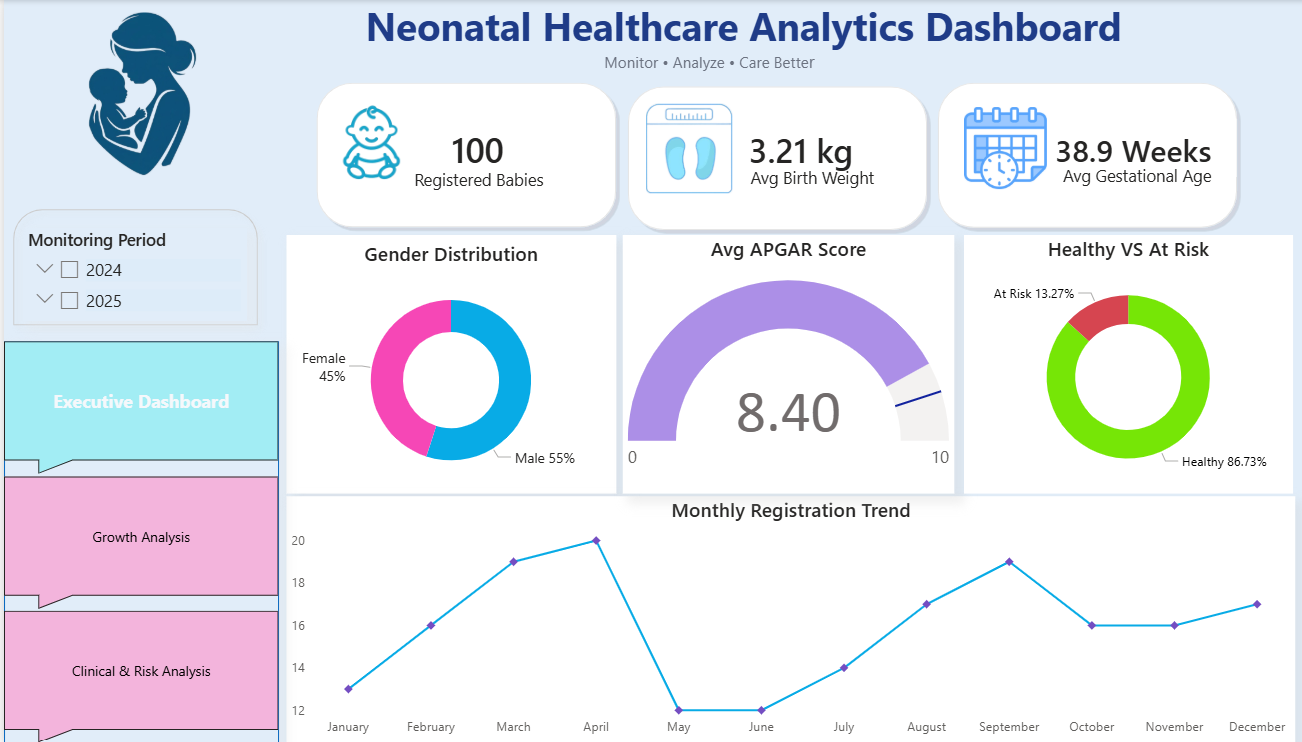

Layout of this report page (visuals, bound fields, positions):
{"tool":"powerbi","page":{"name":"Executive Dashboard","canvas":[1280,720],"ordinal":0},"visuals":[{"type":"shape","box":[0,193.3,253.9,129.8],"z":0},{"type":"textbox","box":[343.4,0,744.5,70.7],"z":1000},{"type":"textbox","box":[574.3,43.4,232.8,35],"z":2000},{"type":"shape","box":[296.8,74.8,299,149.6],"z":3000},{"type":"cardVisual","fields":{"Data":["Calculate_table.Total Babies"]},"box":[402.5,108.2,147.2,67.8],"z":4000},{"type":"textbox","box":[391,157.3,147.2,34.6],"z":5000},{"type":"image","box":[297.2,80.8,118.3,112.5],"z":6000},{"type":"shape","box":[597.3,77.9,298.7,148.6],"z":7000},{"type":"cardVisual","fields":{"Data":["Calculate_table.Avg_birth_wgt"]},"box":[690.1,94.1,171.3,98.9],"z":8000},{"type":"textbox","box":[715.4,155.6,135.1,37.4],"z":9000},{"type":"image","box":[616.1,99.6,89.5,86.6],"z":10000},{"type":"shape","box":[896,75,298.7,150],"z":11000},{"type":"cardVisual","fields":{"Data":["Calculate_table.Average Gestational Age"]},"box":[985.4,109.6,209.2,66.4],"z":12000},{"type":"textbox","box":[1017.1,152.9,167.4,31.7],"z":13000},{"type":"image","box":[926.5,100.1,79.6,85.7],"z":14000},{"type":"donutChart","title":"Gender Distribution","fields":{"Category":["Dim_Baby_Profile_tbl.gender"],"Y":["Calculate_table.Registered Babies"]},"box":[272.7,226.5,318,249.6],"z":15000},{"type":"lineChart","title":"Monthly Registration Trend","fields":{"Category":["Dim_Calender_tbl.date.Variation.Date Hierarchy.Month"],"Y":["Calculate_table.Registered Babies"]},"box":[272.7,479,973.9,240.9],"z":16000},{"type":"gauge","title":"Avg APGAR Score ","fields":{"Y":["Calculate_table.Avg_Apgar_score"],"MinValue":["Calculate_table.Min_apgar"],"MaxValue":["Calculate_table.Max_apgar"],"TargetValue":["Calculate_table.Target_apgar"]},"box":[597.3,226.5,320,249.6],"z":17000},{"type":"shape","box":[0,328.9,265.5,391],"z":18000},{"type":"pageNavigator","box":[0,328.9,265.5,391],"z":19000},{"type":"donutChart","title":"Healthy VS At Risk","fields":{"Category":["Dim_risk_level_tbl.risk_level"],"Y":["CountNonNull(Fact_neonatal_data.baby_id)"]},"box":[926.3,226.5,317.4,249.6],"z":20000},{"type":"image","box":[10.1,11.5,243,160],"z":21000},{"type":"slicer","title":"Monitoring Period","fields":{"Values":["Dim_Calender_tbl.date.Variation.Date Hierarchy.Year","Dim_Calender_tbl.date.Variation.Date Hierarchy.Month"]},"box":[18.1,219.3,215.6,90.6],"z":22000}]}

Visuals, with their boxes on the page's 1280x720 design canvas (x1, y1, x2, y2). These are canvas units, not pixel positions in the 1302x742 screenshot, which may show the page scaled, cropped or inside an application window:
shape: [0,193,254,323]
textbox: [343,0,1088,71]
textbox: [574,43,807,78]
shape: [297,75,596,224]
cardVisual - Calculate_table.Total Babies: [402,108,550,176]
textbox: [391,157,538,192]
image: [297,81,416,193]
shape: [597,78,896,226]
cardVisual - Calculate_table.Avg_birth_wgt: [690,94,861,193]
textbox: [715,156,850,193]
image: [616,100,706,186]
shape: [896,75,1195,225]
cardVisual - Calculate_table.Average Gestational Age: [985,110,1195,176]
textbox: [1017,153,1184,185]
image: [926,100,1006,186]
"Gender Distribution" donutChart: [273,226,591,476]
"Monthly Registration Trend" lineChart: [273,479,1247,720]
"Avg APGAR Score " gauge: [597,226,917,476]
shape: [0,329,266,720]
pageNavigator: [0,329,266,720]
"Healthy VS At Risk" donutChart: [926,226,1244,476]
image: [10,12,253,172]
"Monitoring Period" slicer: [18,219,234,310]
